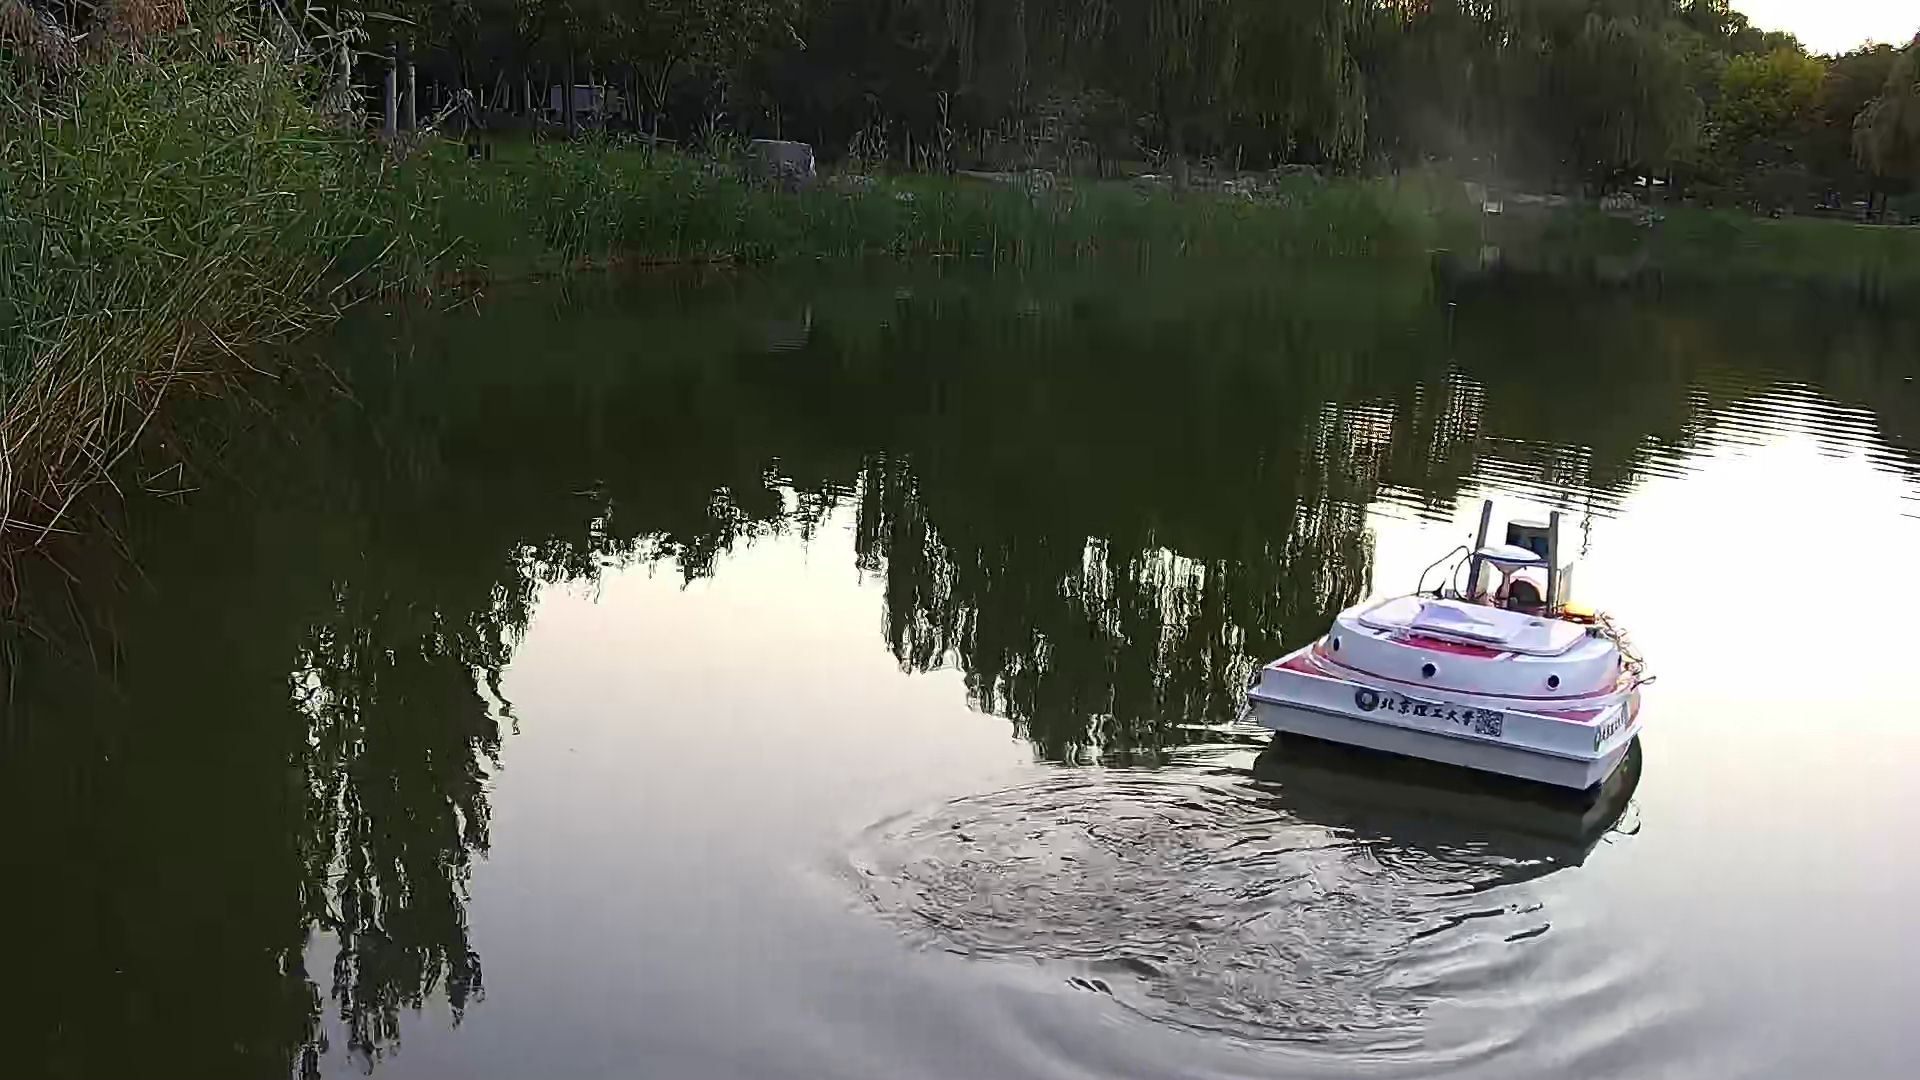boat: (1236, 496, 1655, 815)
